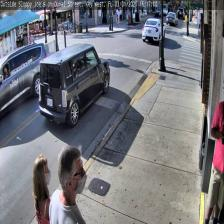person: (48, 144, 88, 223), (32, 153, 53, 223)
